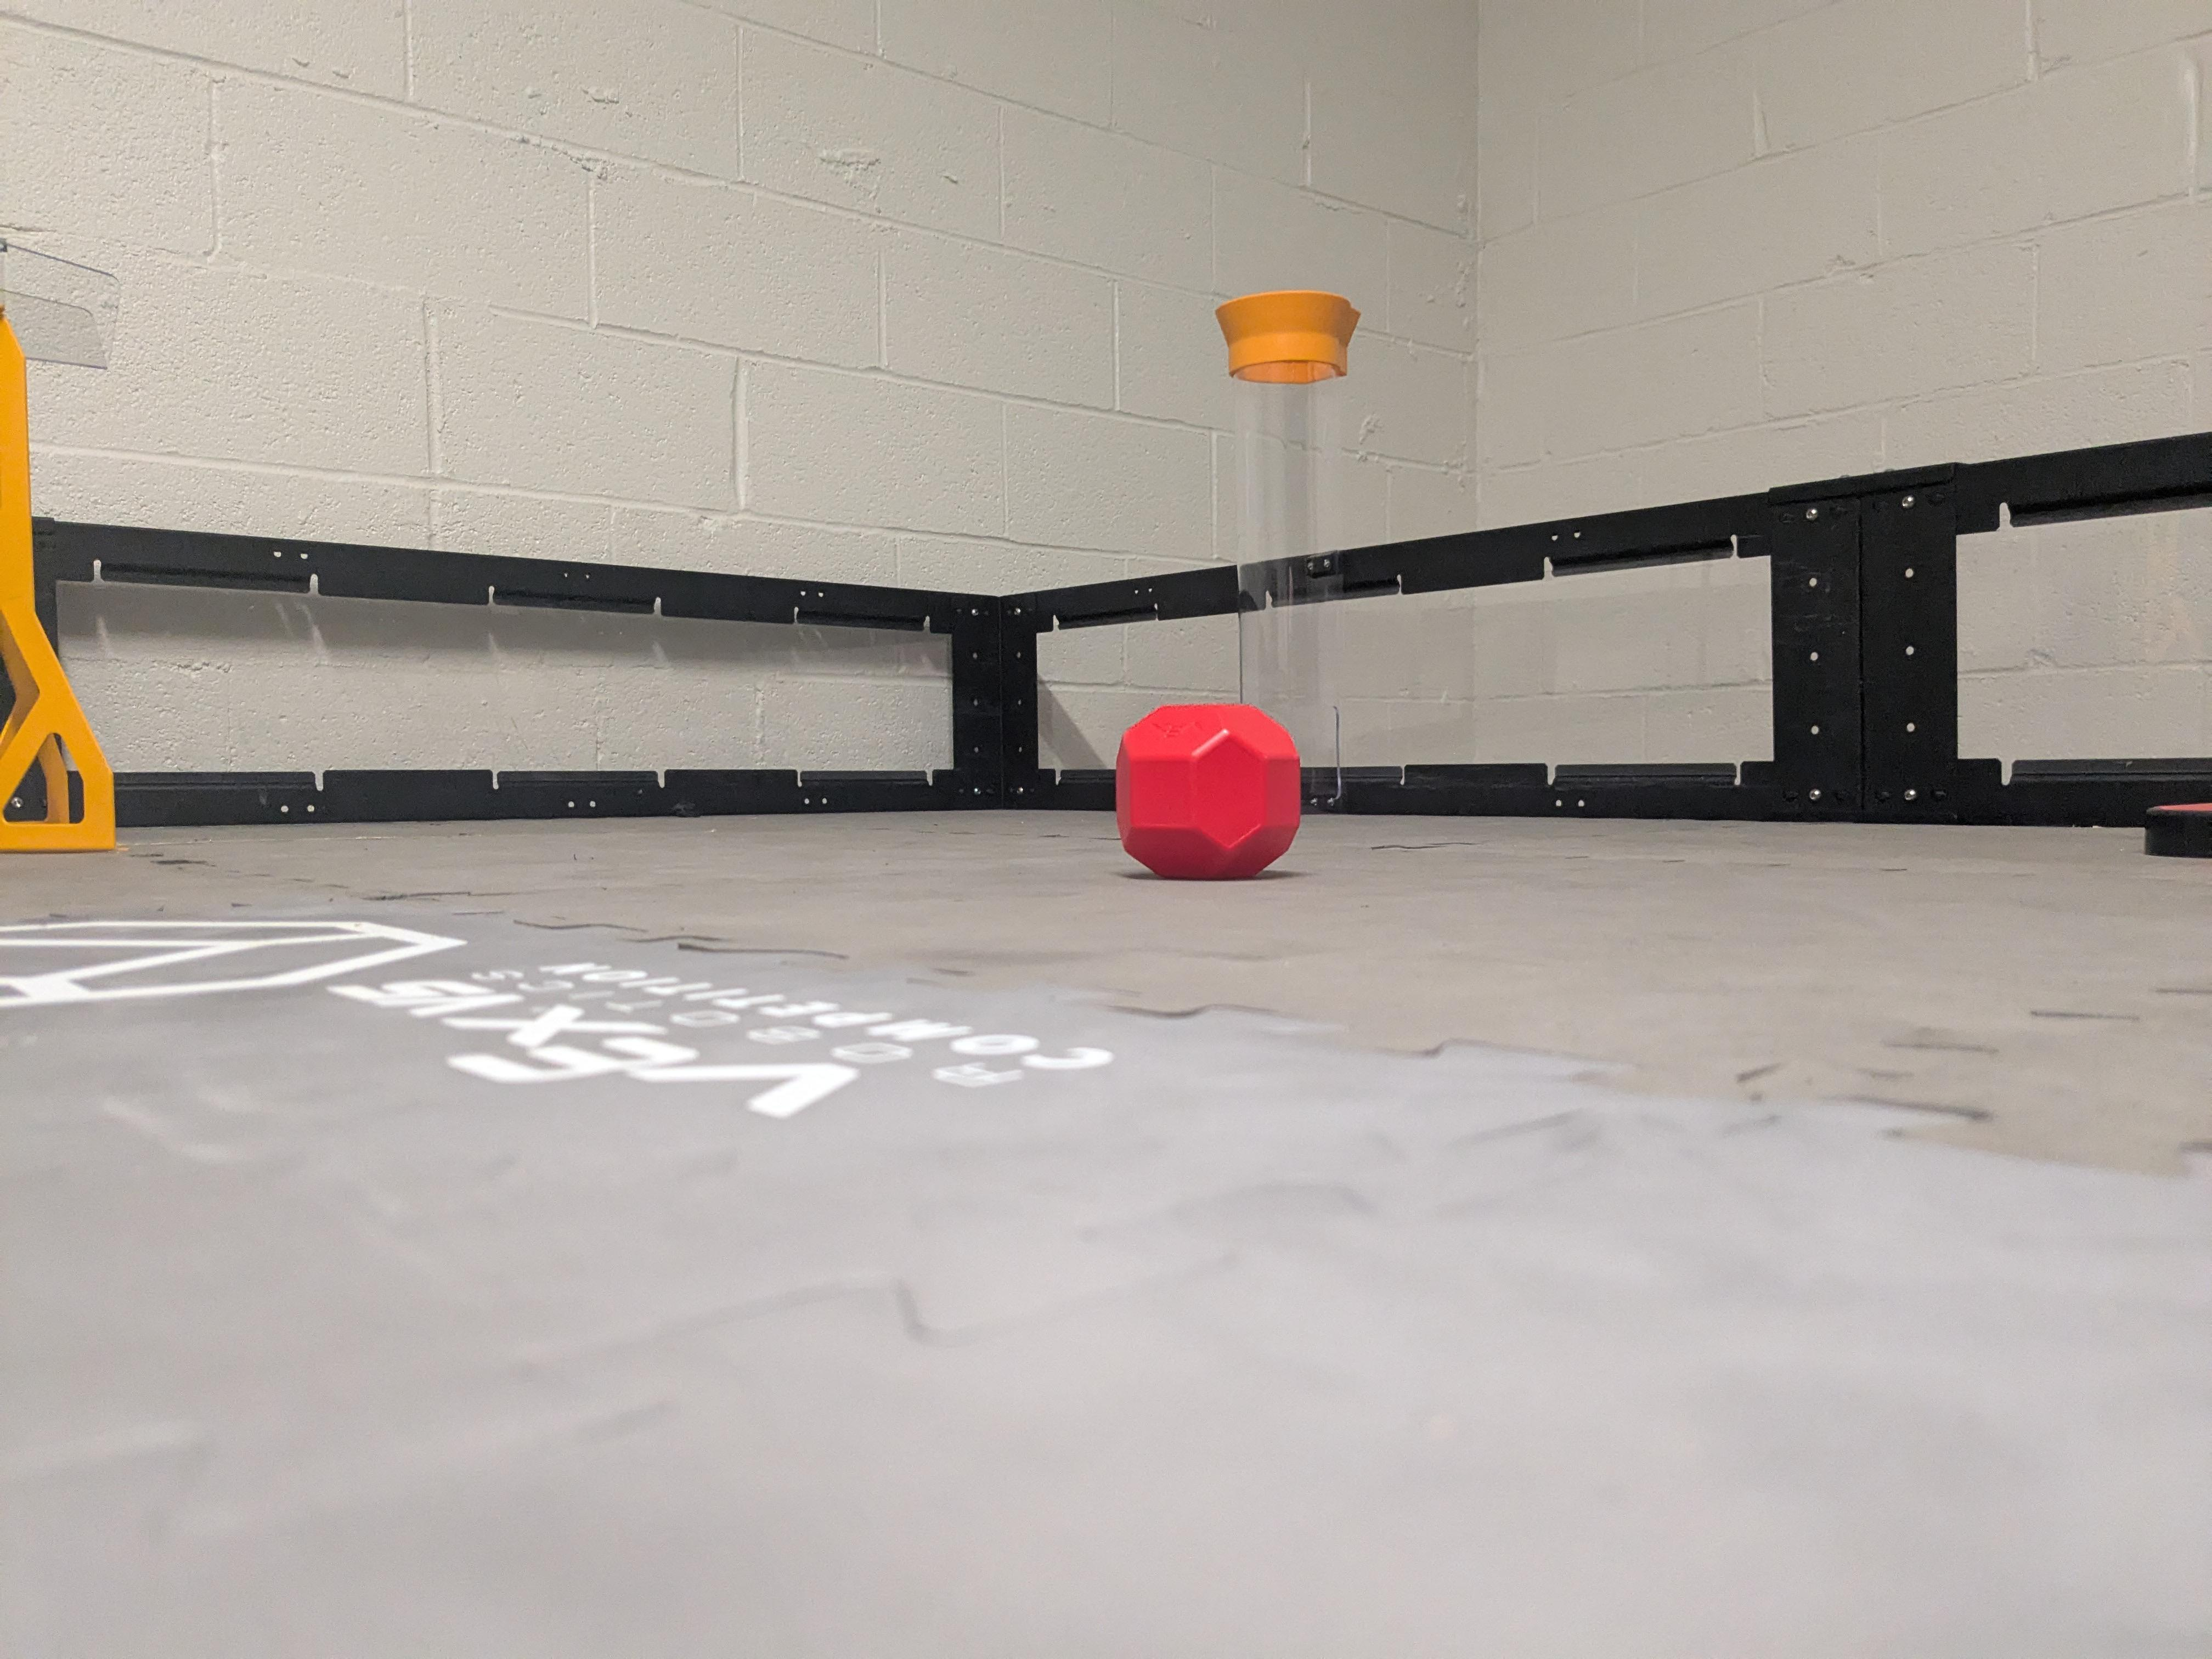Vex-Pieces-RED: (1109, 708, 1299, 878)
